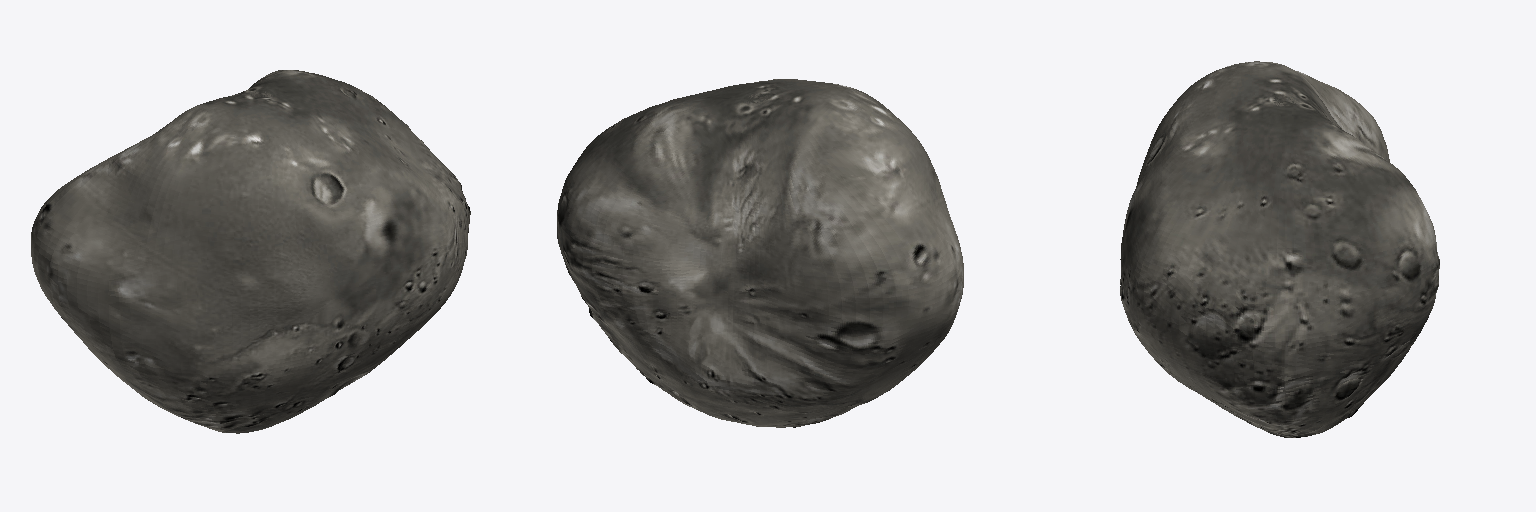
3 views of the same model, side by side, from view 1: azimuth 30°, elevation 25°; view 2: azimuth 150°, elevation 25°; view 3: azimuth 270°, elevation 25° (orthographic).
Parts seen in each view (by area): view 1: deimos; view 2: deimos; view 3: deimos.
Part boxes in pixels (bbox=[...]): deimos: bbox=[31, 70, 470, 433]; deimos: bbox=[557, 79, 963, 427]; deimos: bbox=[1120, 61, 1439, 437].
Size of the model in its own units: 15.01 by 11.87 by 10.51.
1 materials, 1 textured.